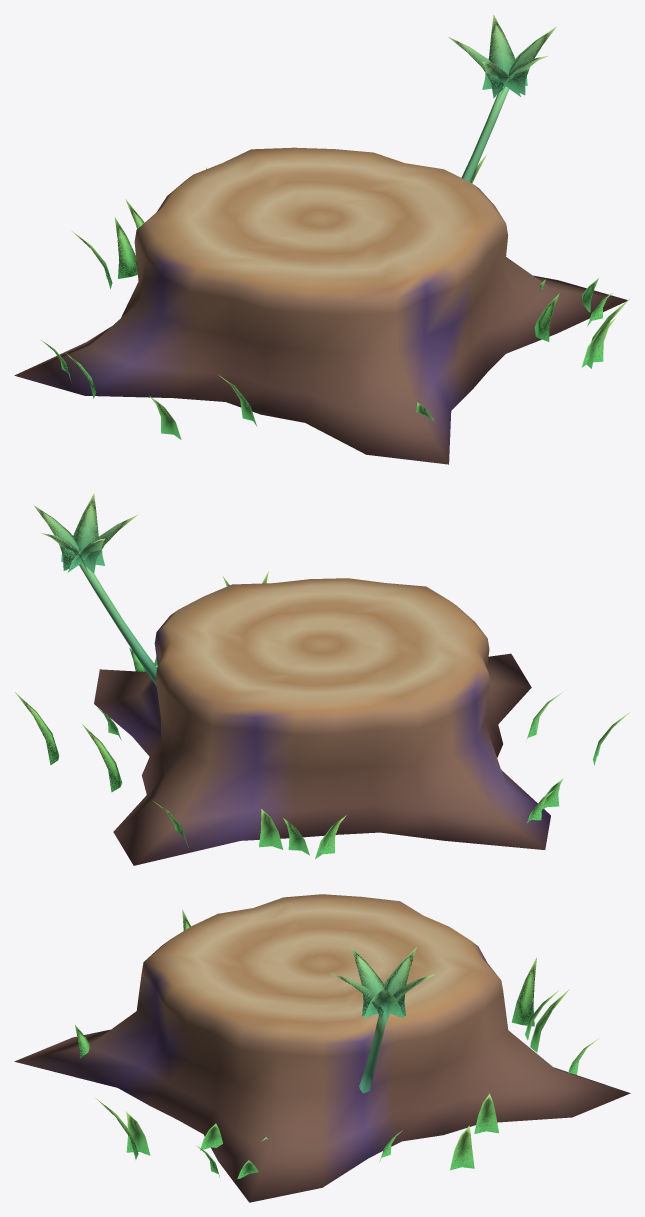
File: verdant_log_stump_cut.glb
The picture shows the model from 3 angles, top to bottom: view 1: azimuth 30°, elevation 25°; view 2: azimuth 150°, elevation 25°; view 3: azimuth 270°, elevation 25°; orthographic projection. The views are drawn at different scales.
Visible parts, largest first — view 1: verdant_log_stump_cut; view 2: verdant_log_stump_cut; view 3: verdant_log_stump_cut.
Boxes of the visible parts, <box> form: verdant_log_stump_cut: <box>14,15,629,464</box>; verdant_log_stump_cut: <box>15,493,629,865</box>; verdant_log_stump_cut: <box>14,894,630,1202</box>.
Bounding box in the file's own units: 2.84 × 1.12 × 2.95.
